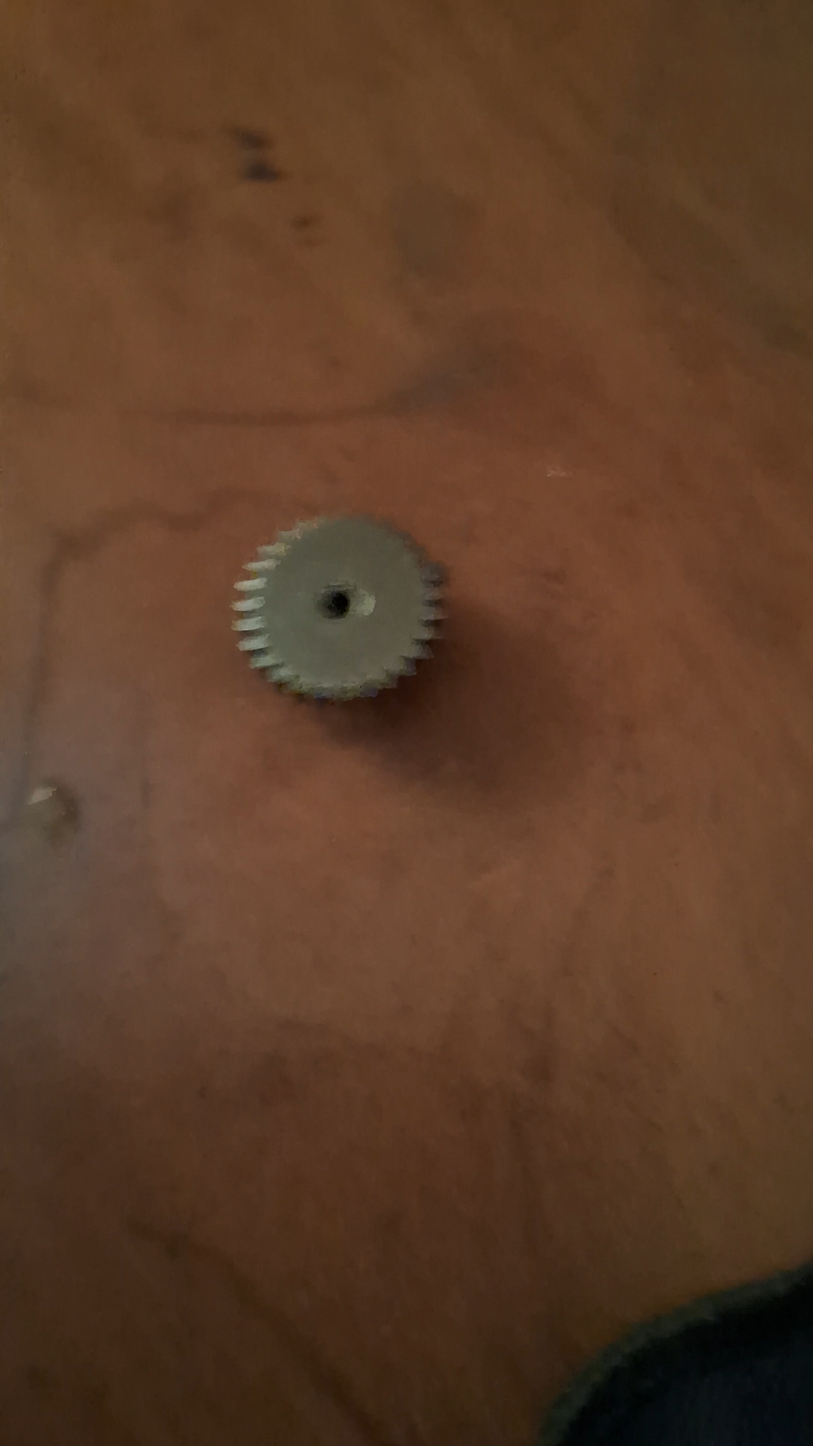spur gear: (233, 517, 443, 700)
